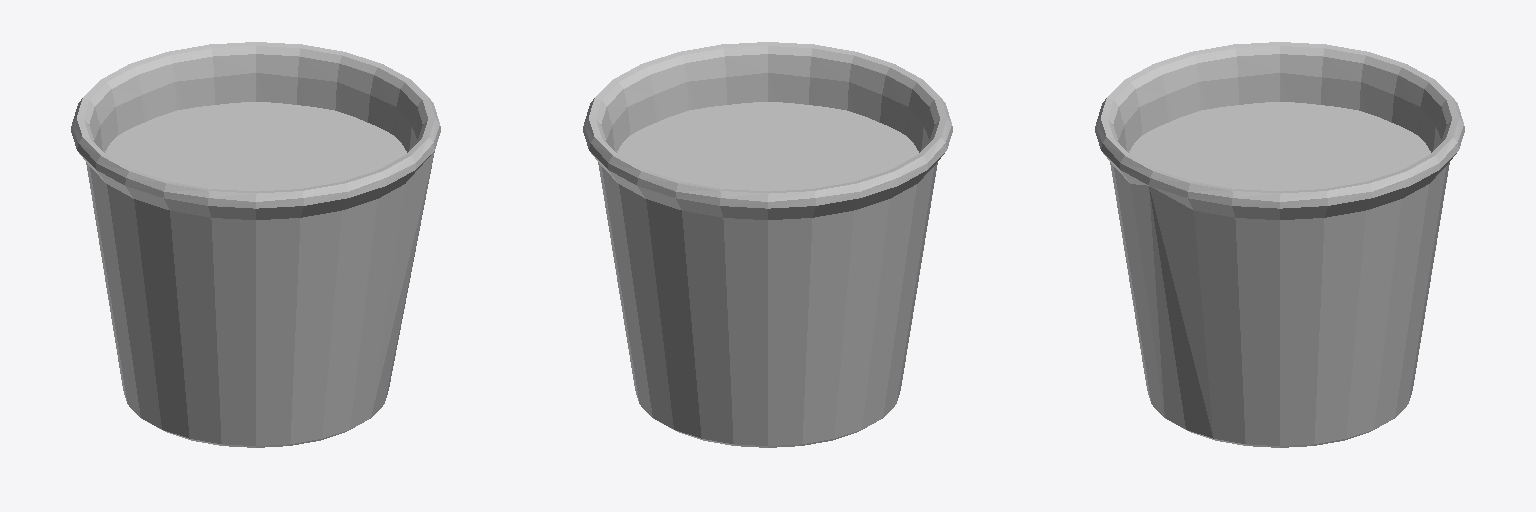
Rendered from Bucket.obj.
3 views of the same model, side by side, from view 1: azimuth 30°, elevation 25°; view 2: azimuth 150°, elevation 25°; view 3: azimuth 270°, elevation 25° (orthographic).
Parts seen in each view (by area): view 1: Bucket_Circle.001, Water_Circle.000; view 2: Bucket_Circle.001, Water_Circle.000; view 3: Bucket_Circle.001, Water_Circle.000.
Part boxes in pixels (left/top/right/bottom): Bucket_Circle.001: left=71, top=42, right=440, bottom=447; Water_Circle.000: left=105, top=102, right=406, bottom=191; Bucket_Circle.001: left=583, top=42, right=952, bottom=447; Water_Circle.000: left=617, top=102, right=918, bottom=191; Bucket_Circle.001: left=1095, top=42, right=1464, bottom=447; Water_Circle.000: left=1129, top=102, right=1430, bottom=191.
Bounding box in the file's own units: 0.5553 × 0.4573 × 0.5553.